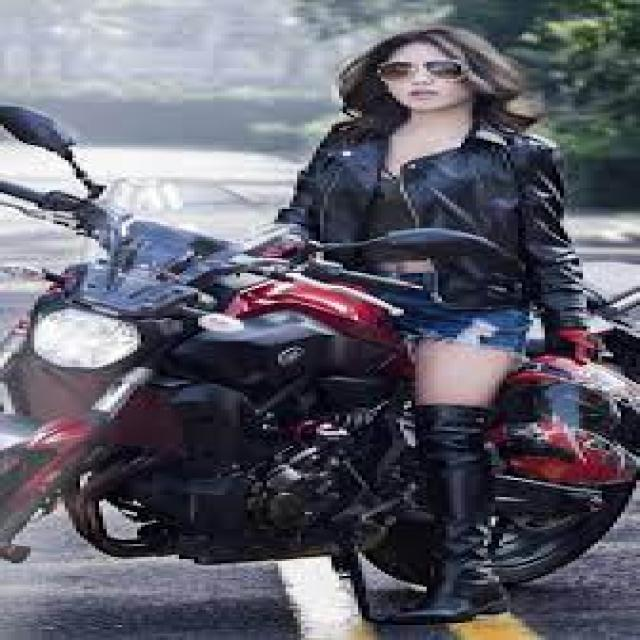Not Wearing Helmet: (336, 0, 501, 188)
